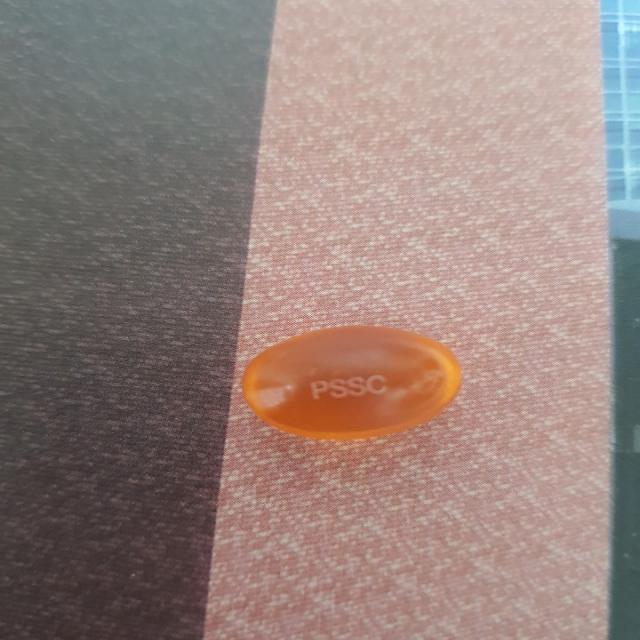pill: (217, 318, 469, 440)
